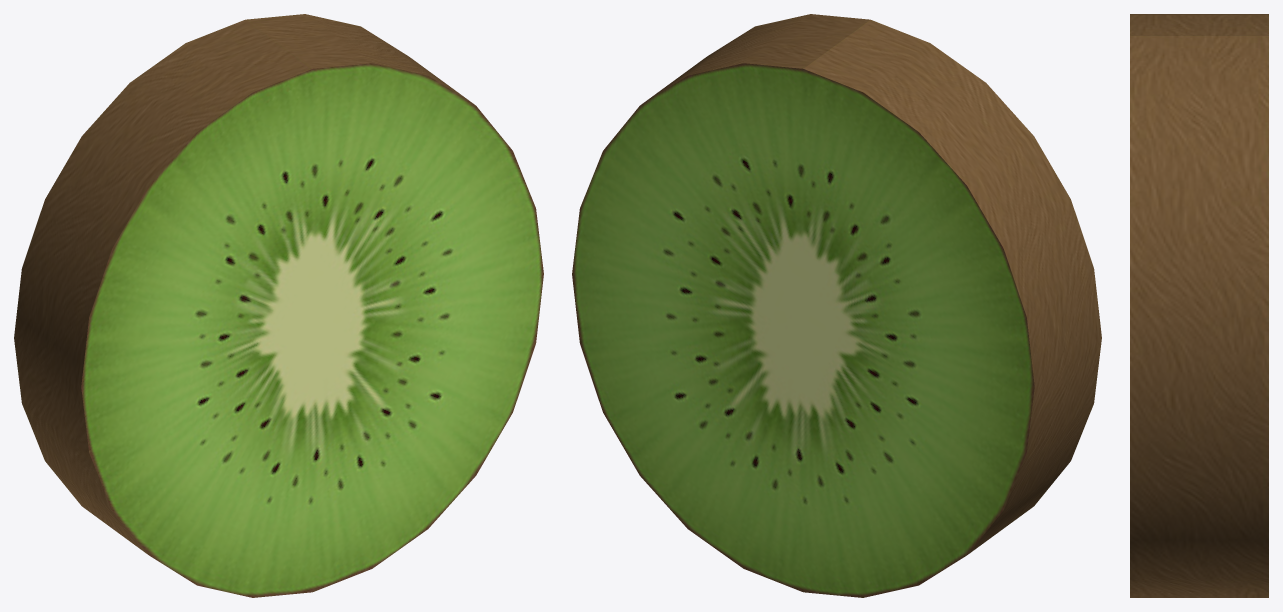
Rendered from KiwiSlice_1.fbx.
3 renders of one model, left to right at view 1: azimuth 30°, elevation 25°; view 2: azimuth 150°, elevation 25°; view 3: azimuth 270°, elevation 25°, orthographic. The views are drawn at different scales.
Visible parts, largest first — view 1: KiwiSlice_1; view 2: KiwiSlice_1; view 3: KiwiSlice_1.
Boxes of the visible parts, x1=… form: KiwiSlice_1: x1=14, y1=14, x2=543, y2=597; KiwiSlice_1: x1=572, y1=14, x2=1101, y2=597; KiwiSlice_1: x1=1130, y1=14, x2=1268, y2=597.
Size of the model in its own units: 0.0536 by 0.0579 by 0.0135.
1 material, 1 textured.
